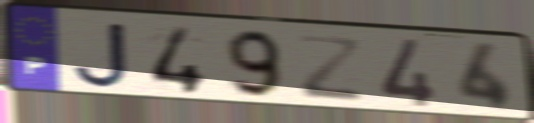4: (452, 40, 517, 116), (377, 35, 439, 111), (147, 23, 208, 96)
9: (221, 28, 286, 101)
J: (70, 19, 133, 90)
Z: (293, 32, 366, 105)
